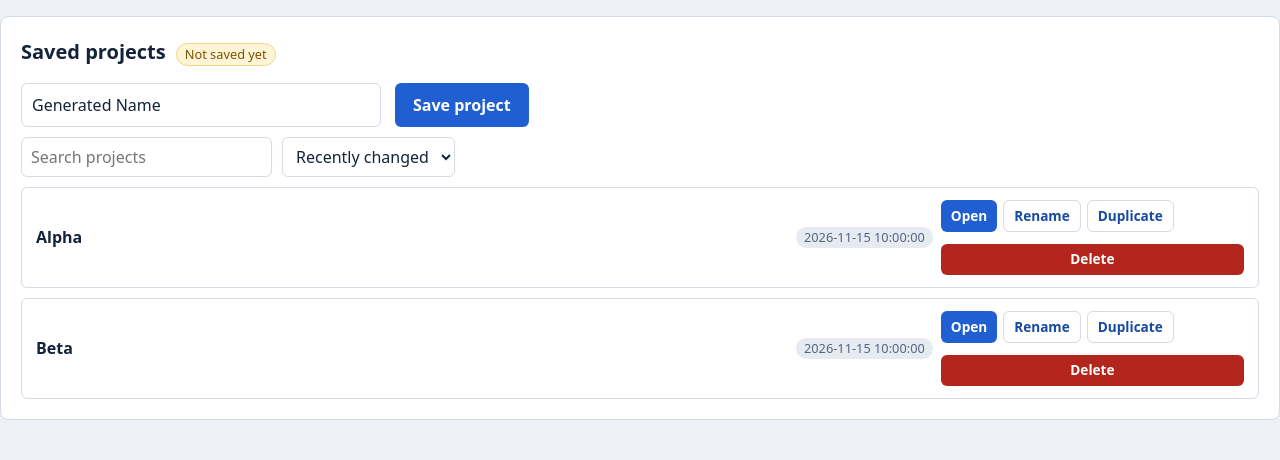
Projects › opens a project, after asking about unsaved work
Click the button "Open" in the row of "Alpha" at (969, 216), box [941, 200, 997, 232]
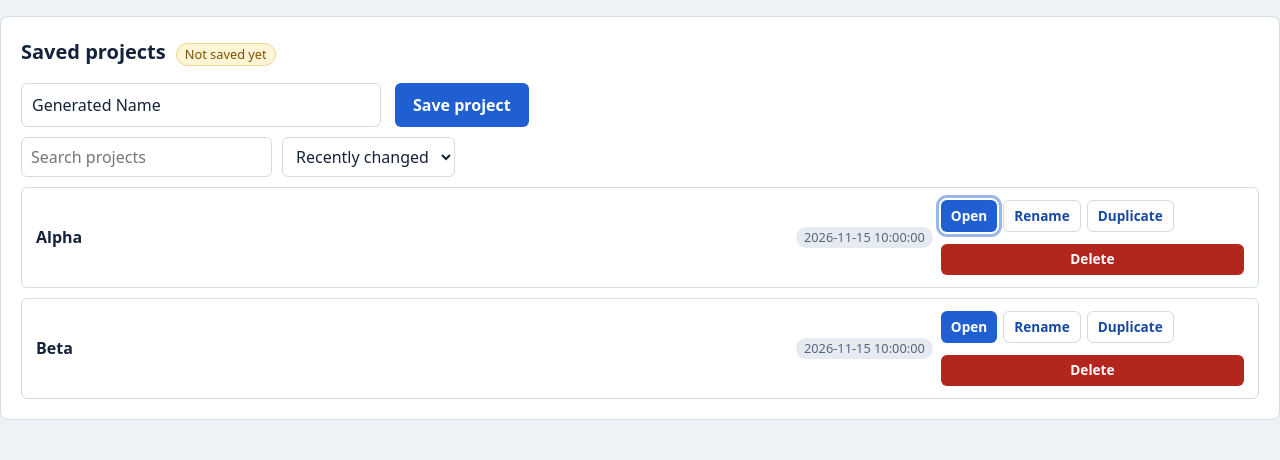
Click the button "Open" in the row of "Alpha" at (969, 216), box [941, 200, 997, 232]
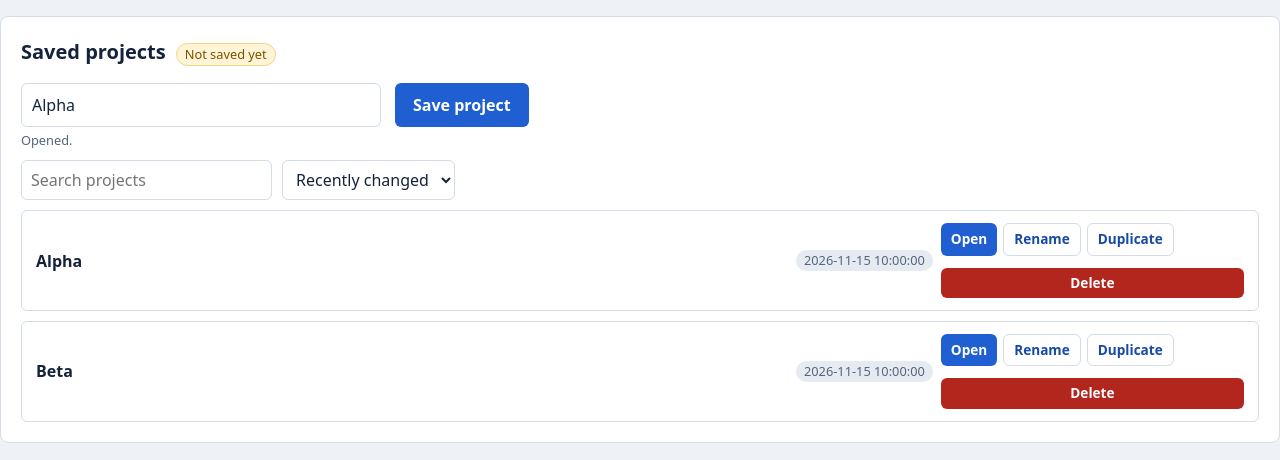
Now the field named "Project name" holds "Alpha", box [21, 83, 381, 127]
